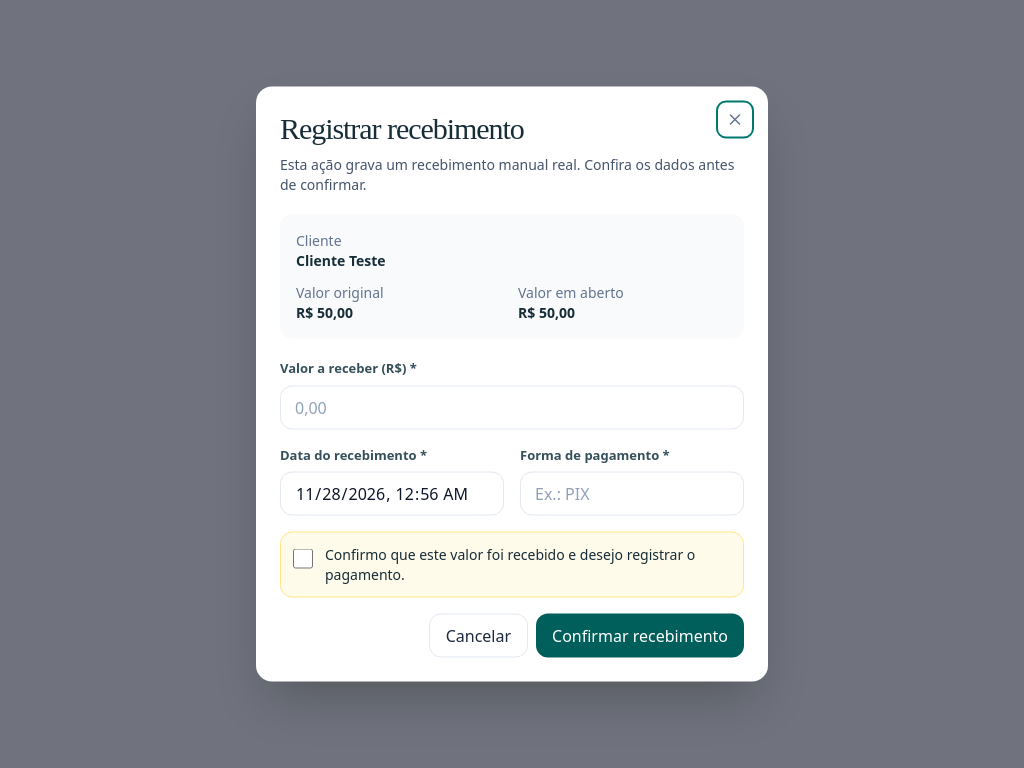
Test: recuperação segura do recebimento › não envia quando não consegue persistir a intenção
This screenshot has width=1024, height=768.
Type "20,00" into the field labelled "Valor a receber (R$) *" at (512, 407), box left=280, top=385, right=744, bottom=429
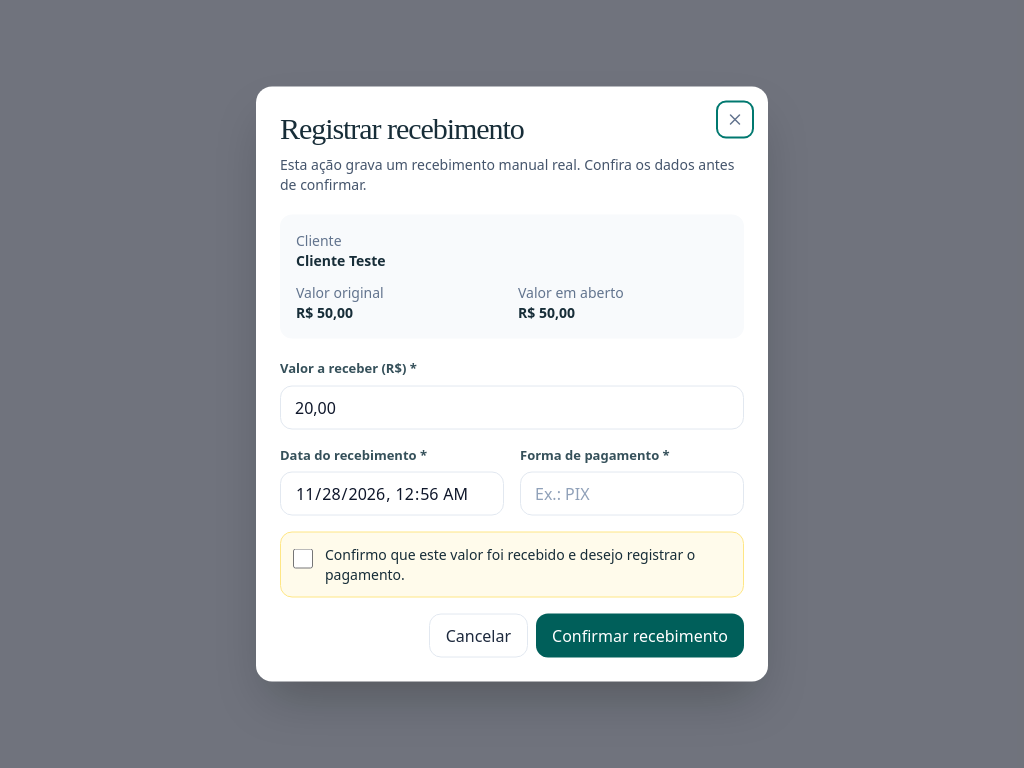
Type "PIX" into the field labelled "Forma de pagamento *" at (632, 494), box left=520, top=472, right=744, bottom=516
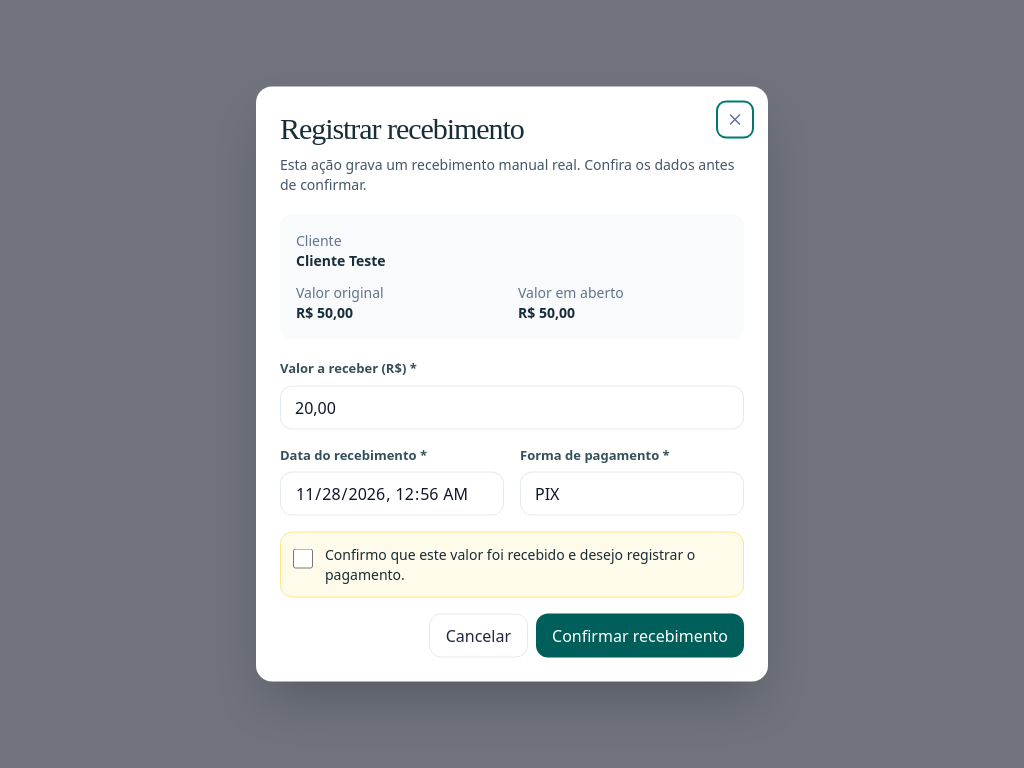
Click the checkbox at (303, 558), box left=293, top=548, right=313, bottom=568
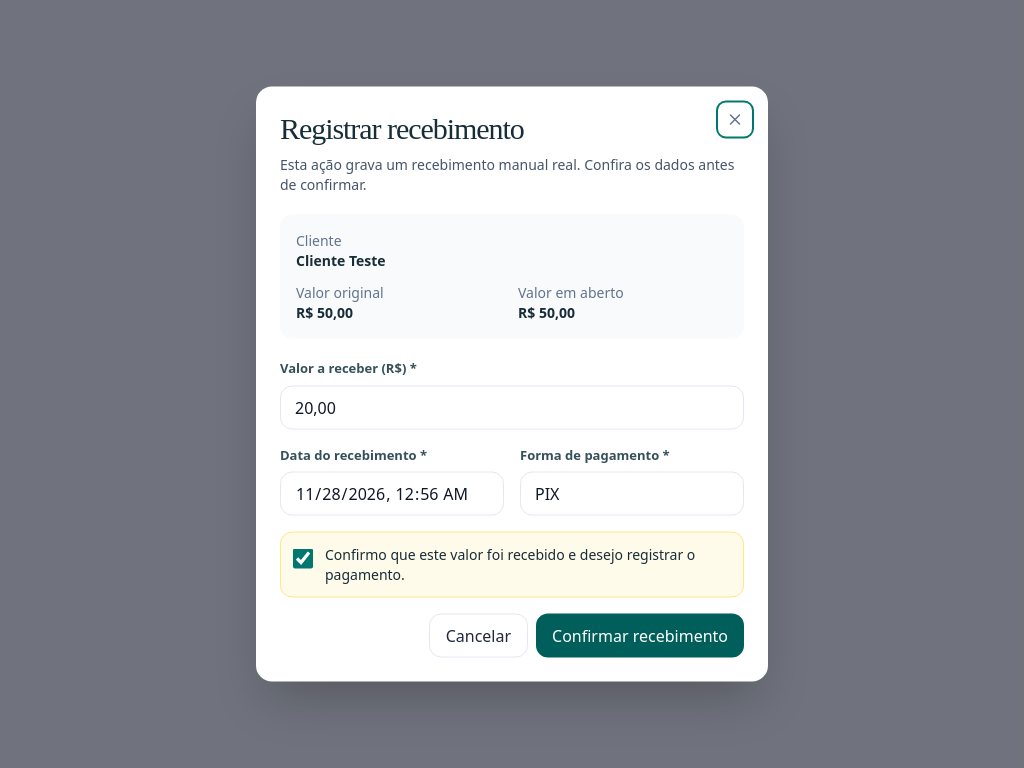
Click the button "Confirmar recebimento" at (640, 636), box left=536, top=614, right=744, bottom=658
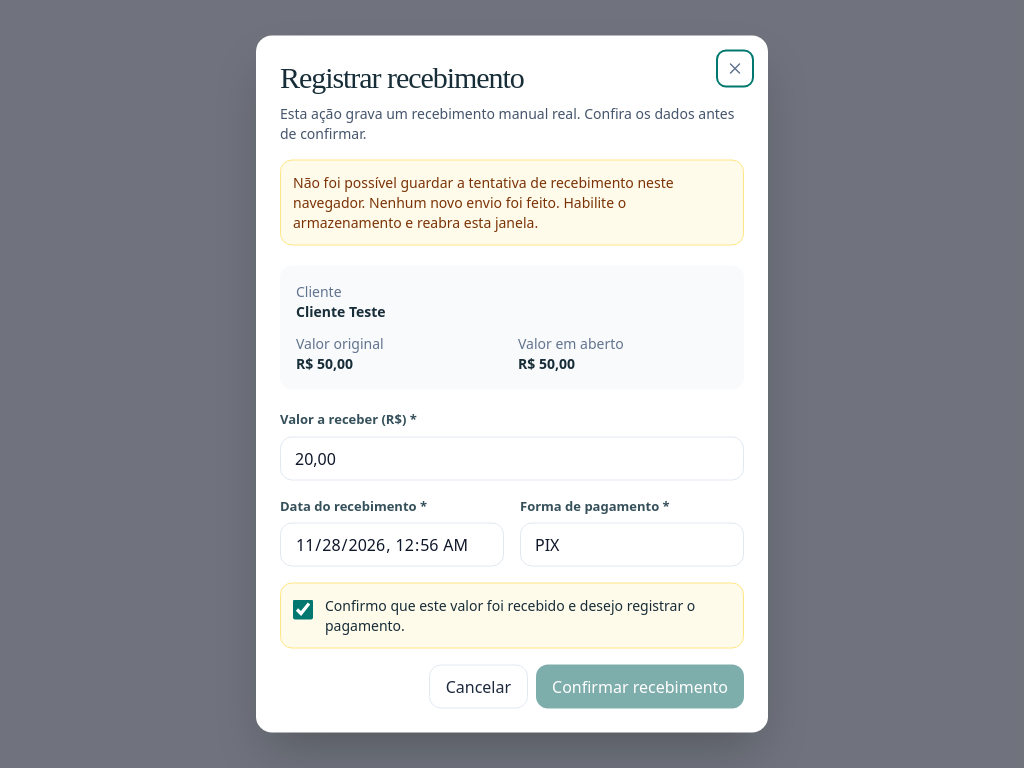
expect the text "Não foi possível guardar a tentativa" is shown: met, box left=293, top=172, right=674, bottom=232
